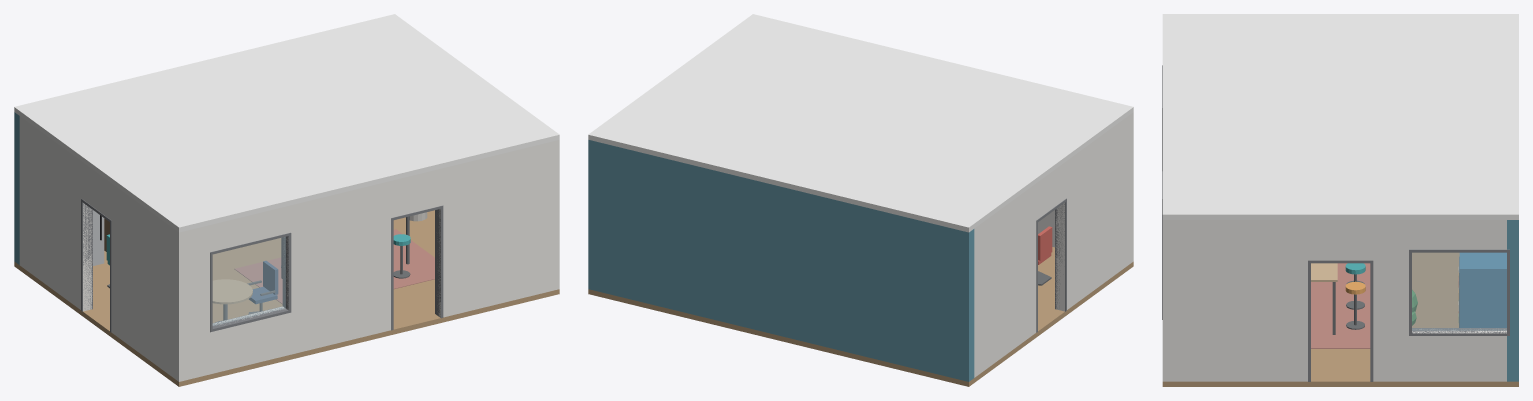
The picture shows the model from 3 angles, left to right: view 1: azimuth 30°, elevation 25°; view 2: azimuth 150°, elevation 25°; view 3: azimuth 270°, elevation 25°; orthographic projection. The views are drawn at different scales.
Parts seen in each view (by area): view 1: Ceiling, Wall_S, Wall_W, Floor, Frames_S, Rug, Frames_W, CafeTable_1, Wall_N, CafeChair_02, Fridge; view 2: Ceiling, Wall_N, Wall_W, Floor, Wall_S, Frames_W, CafeChair_01; view 3: Ceiling, Wall_E, Frames_E, Floor, Rug, VendingMachine, Wall_S, Wall_N, BarTable, BarStool_06, BarStool_05.
Part boxes in pixels (<box>): Ceiling: <box>14,14,559,232</box>; Wall_S: <box>173,140,559,381</box>; Wall_W: <box>19,116,173,377</box>; Floor: <box>14,210,559,386</box>; Frames_S: <box>210,205,443,332</box>; Rug: <box>234,229,434,303</box>; Frames_W: <box>81,198,111,332</box>; CafeTable_1: <box>212,279,252,322</box>; Wall_N: <box>14,112,19,264</box>; CafeChair_02: <box>247,261,278,314</box>; Fridge: <box>93,210,104,265</box>; Ceiling: <box>588,14,1133,232</box>; Wall_N: <box>588,140,974,381</box>; Wall_W: <box>974,116,1128,377</box>; Floor: <box>588,247,1133,386</box>; Wall_S: <box>1038,112,1133,264</box>; Frames_W: <box>1036,198,1066,332</box>; CafeChair_01: <box>1038,226,1052,285</box>; Ceiling: <box>1162,14,1518,219</box>; Wall_E: <box>1174,220,1506,381</box>; Frames_E: <box>1308,249,1509,381</box>; Floor: <box>1162,252,1518,386</box>; Rug: <box>1311,263,1370,348</box>; VendingMachine: <box>1458,252,1506,327</box>; Wall_S: <box>1162,220,1174,381</box>; Wall_N: <box>1507,220,1518,381</box>; BarTable: <box>1311,263,1337,334</box>; BarStool_06: <box>1345,281,1365,329</box>; BarStool_05: <box>1345,263,1365,309</box>.
Bounding box in the file's own units: 8.02 × 3.2 × 6.01.
